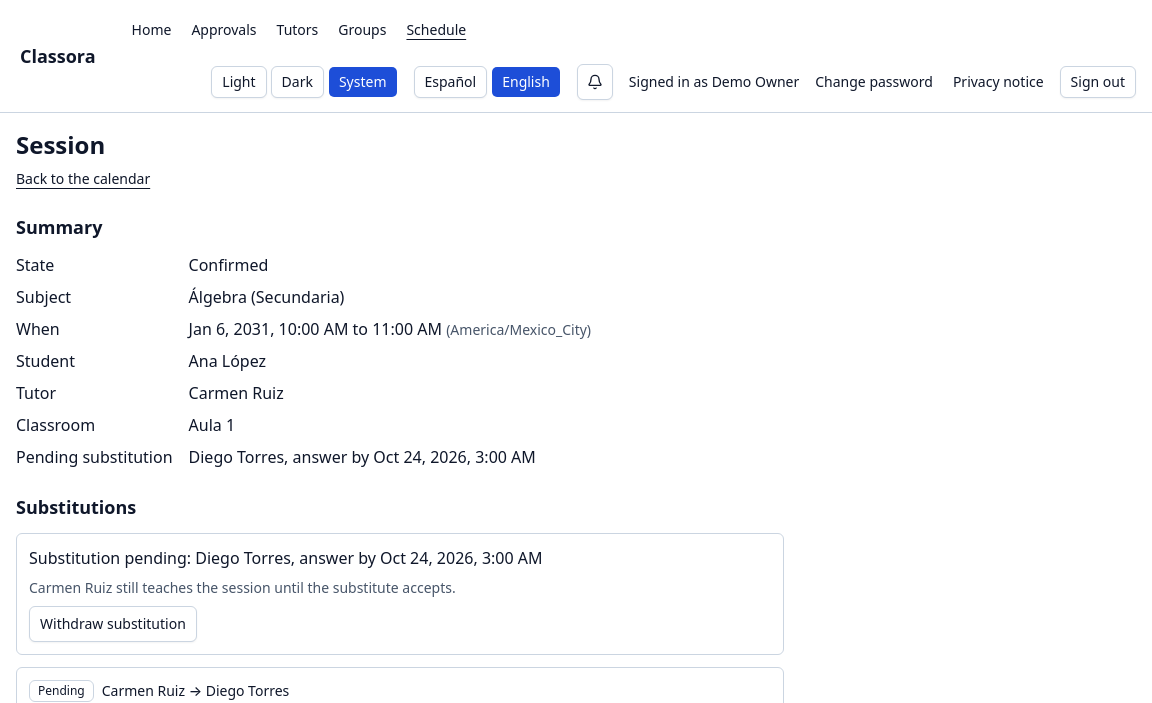
/schedule/sessions/:id substitutions and cancellation (#55) › after a withdraw, focus goes to the "withdrawn" notice
Click the button "Withdraw substitution": click(113, 624) left=29, top=606, right=197, bottom=642
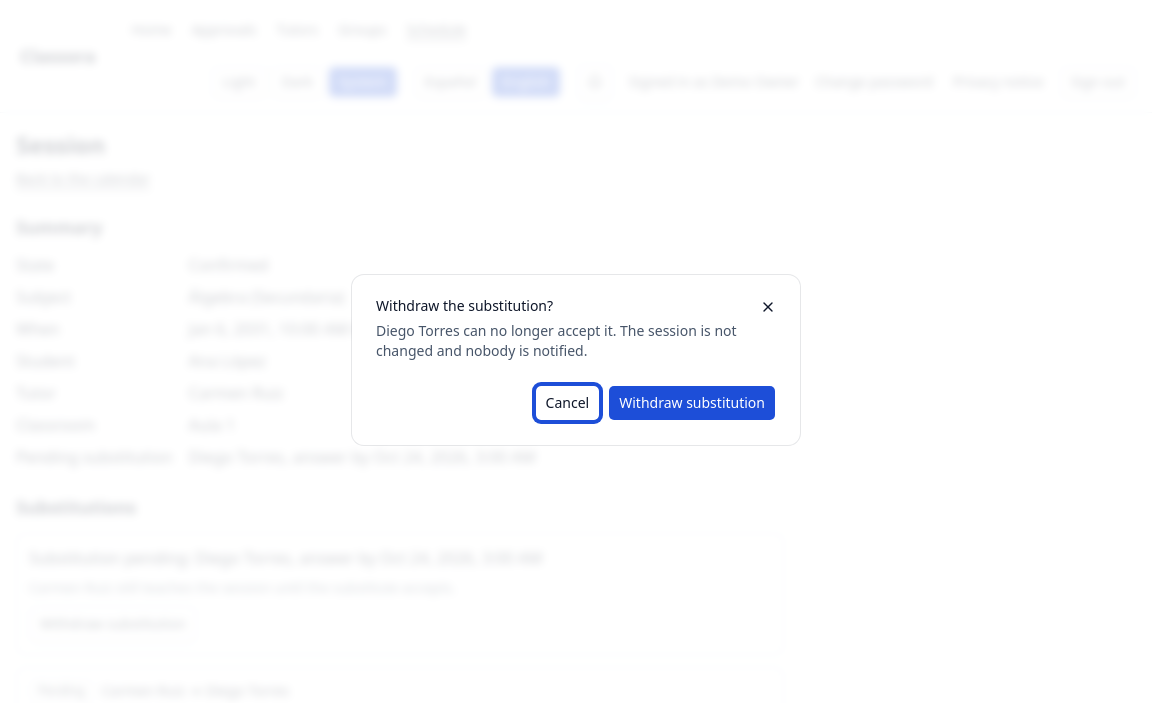
Click the button "Withdraw substitution": click(692, 403) left=608, top=385, right=776, bottom=421
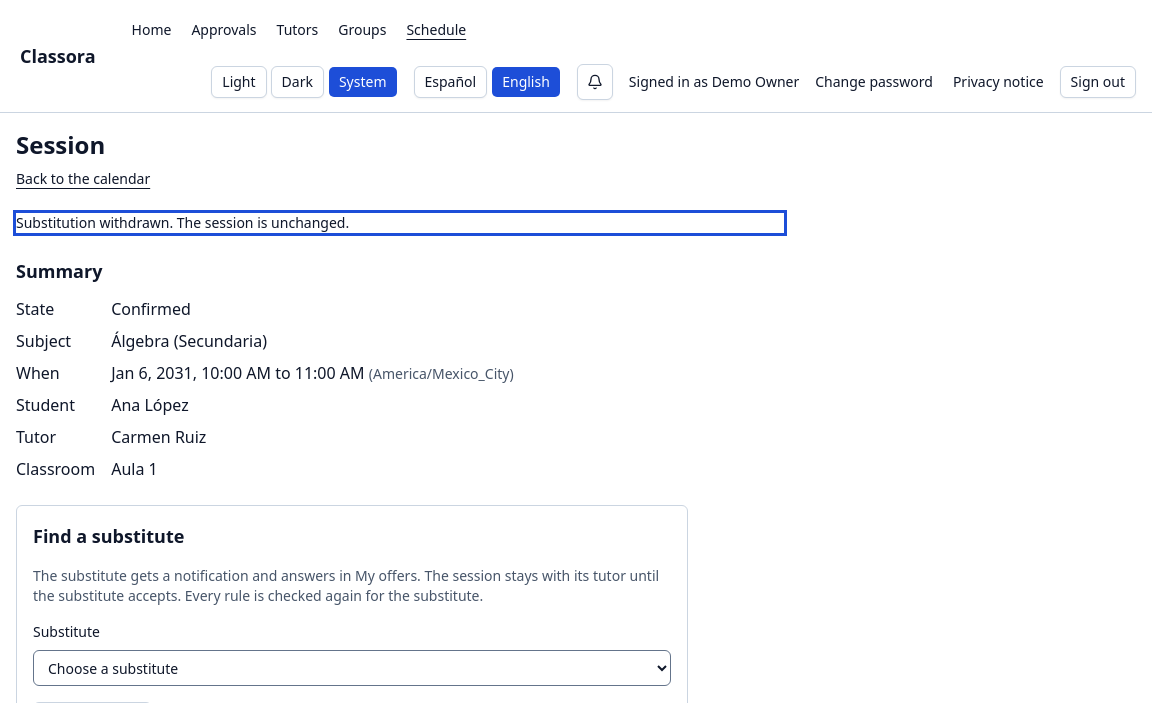
Check: the message "Substitution withdrawn. The session is unchanged." is shown, box left=16, top=213, right=784, bottom=233
